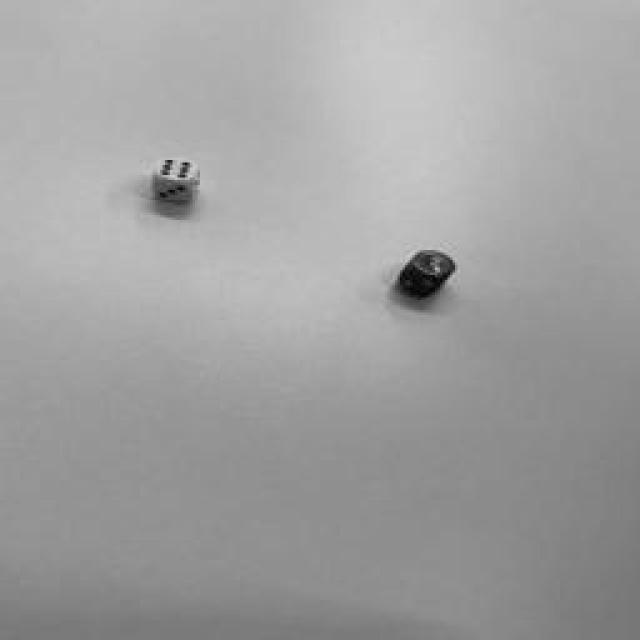dice_1: (412, 250, 458, 278)
dice_6: (155, 158, 197, 182)
